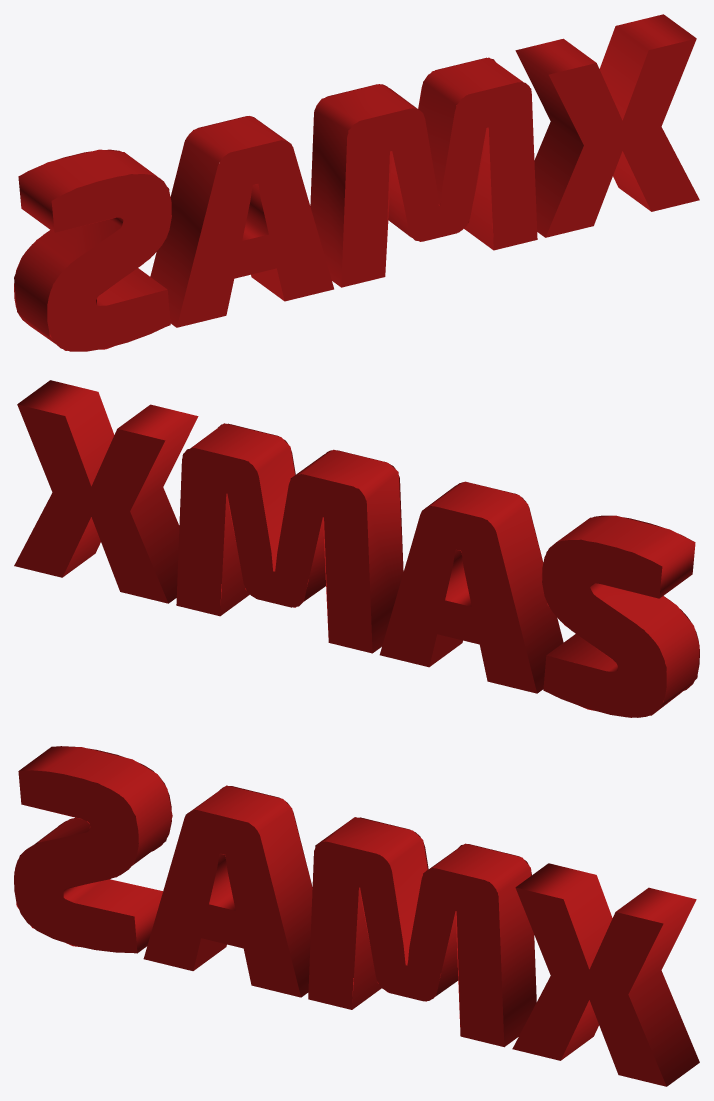
Rendered from xmas.fbx.
3 views of the same model, one above another, from view 1: azimuth 30°, elevation 25°; view 2: azimuth 150°, elevation 25°; view 3: azimuth 330°, elevation 25° (orthographic).
Parts seen in each view (by area): view 1: Text; view 2: Text; view 3: Text.
Part boxes in pixels (x1=…): Text: x1=14, y1=14, x2=699, y2=351; Text: x1=14, y1=380, x2=699, y2=717; Text: x1=14, y1=746, x2=699, y2=1086.
Bounding box in the file's own units: 9.09 × 2.26 × 0.8.
